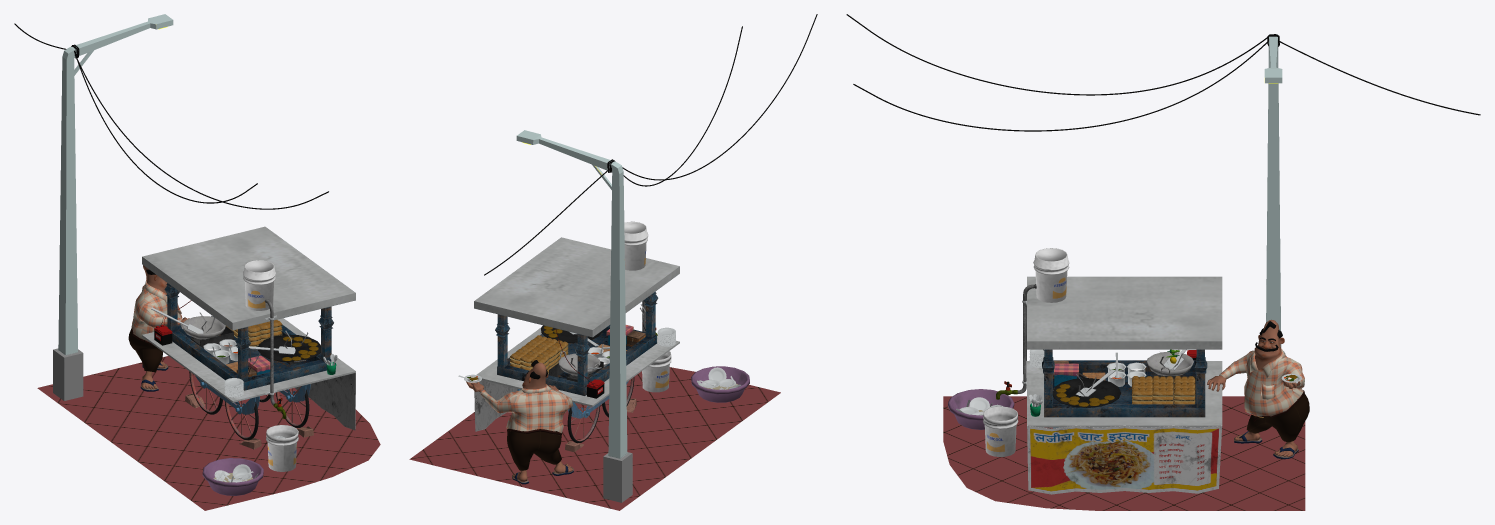
File: Sketchfab_2020_07_24_15_17_12.fbx
3 renders of one model, left to right at view 1: azimuth 30°, elevation 25°; view 2: azimuth 150°, elevation 25°; view 3: azimuth 270°, elevation 25°, orthographic. The views are drawn at different scales.
Visible parts, largest first — view 1: ground, stall roof, streetLight, eyes.000_Sphere.008_vendor1, stall platform, stall base, banner, bucket2, tub, buket1, Cylinder, Cylinder.001 (+9 smaller); view 2: ground, stall roof, streetLight, eyes.000_Sphere.008_vendor1, stall base, stall platform, tub, bucket2, banner, buket1, pillar1.001, pillar1.003 (+4 smaller); view 3: ground, stall roof, banner, eyes.000_Sphere.008_vendor1, streetLight, stall platform, stall base, bucket2, buket1, tub, Cylinder, poleWire2 (+2 smaller).
Part boxes in pixels (x1,y1,x2,y2): ground: (37,356,380,510); stall roof: (142,226,355,330); streetLight: (53,14,173,400); eyes.000_Sphere.008_vendor1: (128,265,189,391); stall platform: (142,318,355,402); stall base: (172,316,331,390); banner: (294,373,355,430); bucket2: (243,260,275,310); tub: (202,458,263,495); buket1: (266,425,298,471); Cylinder: (258,334,320,362); Cylinder.001: (183,316,225,339); ground: (409,367,780,510); stall roof: (474,237,679,337); streetLight: (516,130,632,502); eyes.000_Sphere.008_vendor1: (466,360,573,484); stall base: (497,325,656,395); stall platform: (476,328,679,406); tub: (691,366,749,402); bucket2: (624,221,648,270); banner: (474,328,539,431); buket1: (642,351,671,392); pillar1.001: (495,314,509,367); pillar1.003: (575,334,589,387); ground: (943,396,1305,510); stall roof: (1027,276,1222,349); banner: (1027,425,1221,494); eyes.000_Sphere.008_vendor1: (1207,319,1309,459); streetLight: (1264,34,1285,353); stall platform: (1027,361,1222,427); stall base: (1044,360,1205,417); bucket2: (1033,248,1069,302); buket1: (983,406,1018,456); tub: (948,389,1014,429); Cylinder: (1052,378,1121,407); poleWire2: (846,14,1267,95).
Size of the model in its own units: 1069 by 1682 by 2495.
